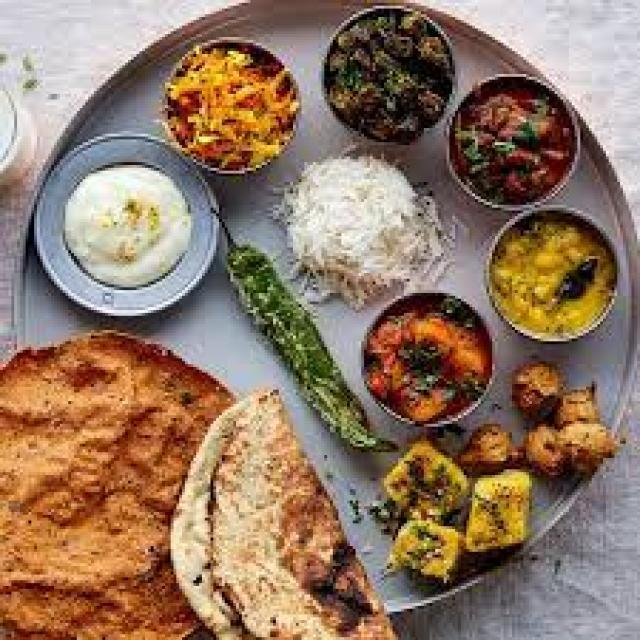curd: (47, 155, 215, 303), (0, 84, 28, 177)
dal: (489, 215, 618, 345)
papad: (177, 400, 352, 635)
rice: (283, 151, 431, 308)
roti: (1, 336, 197, 613)
veg-fry: (347, 304, 498, 434), (165, 41, 307, 174), (486, 216, 622, 349), (376, 485, 471, 591)
